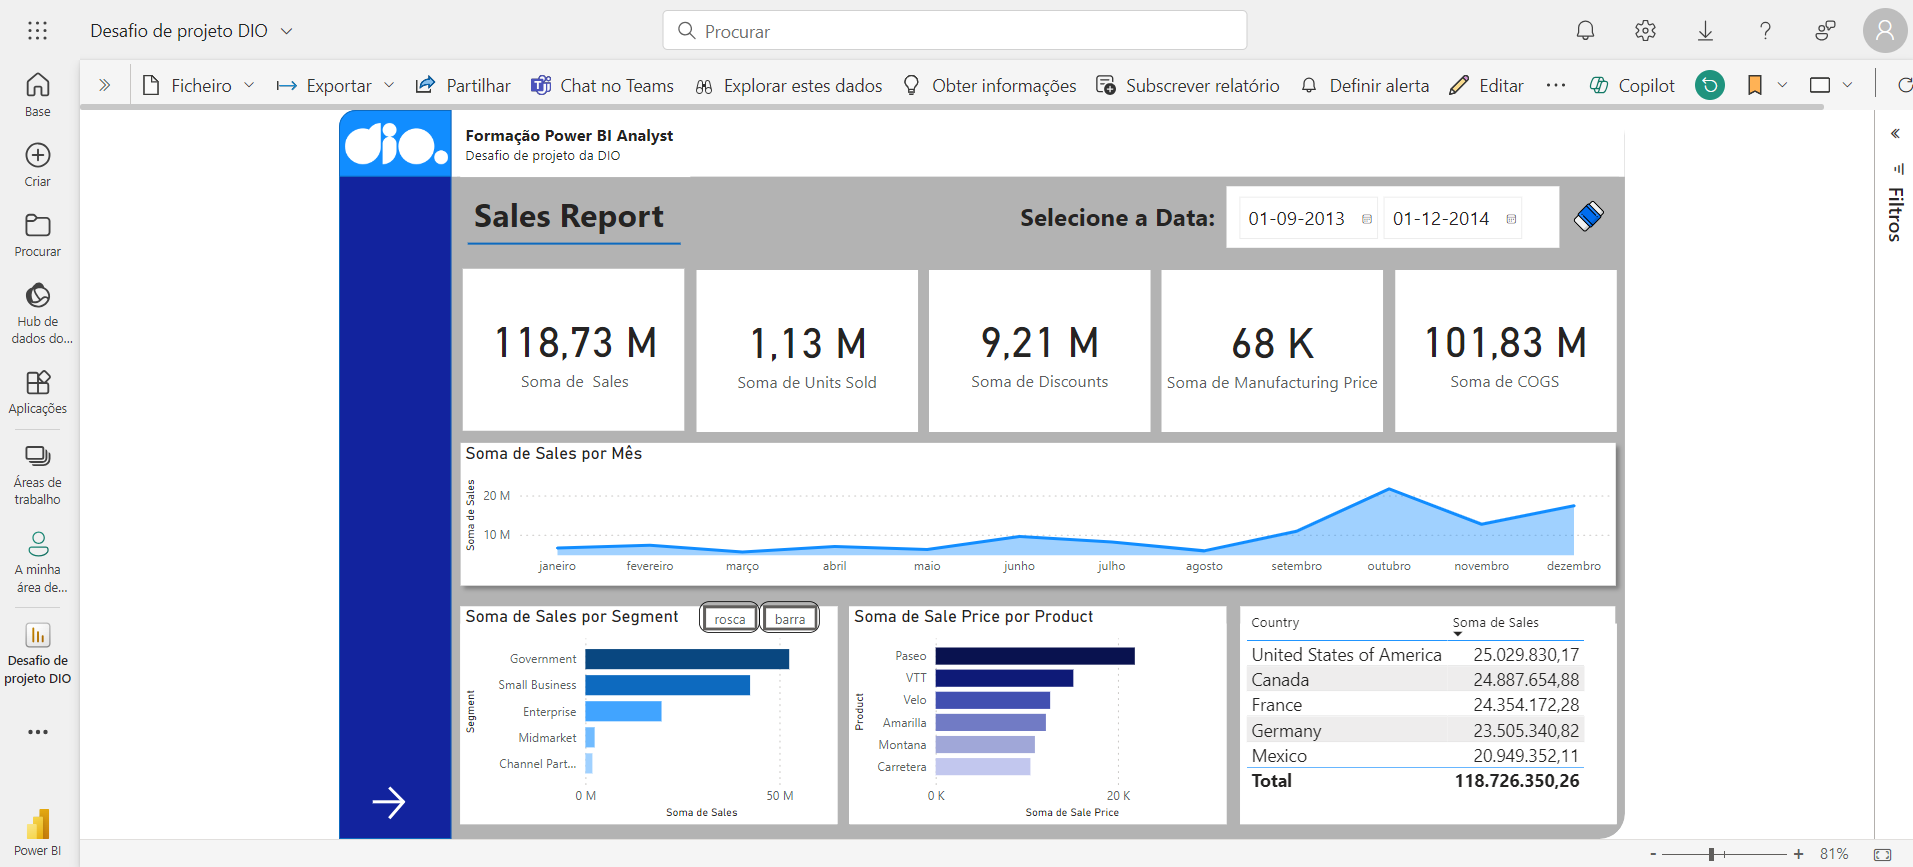

This screenshot's page, from the dashboard's own definition file:
{"tool":"powerbi","page":{"name":"Página 1","canvas":[1280,720],"ordinal":0},"visuals":[{"type":"shape","box":[9.8,0,1270.1,720],"z":0},{"type":"slicer","fields":{"Values":["financials.Date"]},"box":[887.3,75,328.9,60.6],"z":0,"group":"g2"},{"type":"shape","box":[132,156.5,218.8,160.1],"z":0,"group":"g1"},{"type":"shape","box":[9.8,0,111.2,720],"z":1000},{"type":"textbox","box":[678.1,83.7,207.8,51.9],"z":1000,"group":"g2"},{"type":"shape","box":[363.4,157.7,218.8,160.1],"z":1000,"group":"g1"},{"type":"shape","box":[9.8,0,111.2,66],"z":2000},{"type":"actionButton","box":[1216.3,85.1,54.8,40.4],"z":2000,"group":"g2"},{"type":"shape","box":[1052.5,157.7,218.8,160.1],"z":2000,"group":"g1"},{"type":"shape","box":[121,0,1158.8,66],"z":3000},{"type":"shape","box":[822.7,157.7,218.8,160.1],"z":3000,"group":"g1"},{"type":"textbox","box":[129.6,8.6,227.4,57.5],"z":4000},{"type":"shape","box":[592.8,157.7,218.8,160.1],"z":4000,"group":"g1"},{"type":"group","id":"g1","title":"Cartões","box":[132,156.5,1139.3,161.4],"z":5000},{"type":"textbox","box":[138.1,77,210.3,55],"z":6000},{"type":"shape","box":[136.9,119.8,210.3,24.4],"z":7000},{"type":"shape","box":[121,320.3,1158.8,158.9],"z":8000},{"type":"shape","box":[514.6,507.3,371.6,198],"z":9000},{"type":"shape","box":[899.7,507.3,371.6,198],"z":10000},{"type":"shape","box":[129.6,507.3,371.6,198],"z":11000},{"type":"image","box":[1217.5,84.3,55,41.6],"z":12000},{"type":"areaChart","fields":{"Category":["financials.Date.Variation.Hierarquia de datas.Mês"],"Y":["Sum(financials. Sales)"]},"box":[129.6,328.8,1141.7,140.6],"z":13000},{"type":"card","fields":{"Values":["Sum(financials. Sales)"]},"box":[132.7,155.8,219.3,160.1],"z":14000},{"type":"card","fields":{"Values":["Sum(financials.Units Sold)"]},"box":[363.6,157.3,219.3,160.1],"z":15000},{"type":"card","fields":{"Values":["Sum(financials.Discounts)"]},"box":[593,155.8,219.3,160.1],"z":16000},{"type":"card","fields":{"Values":["Sum(financials.COGS)"]},"box":[1051.8,155.8,219.3,160.1],"z":17000},{"type":"card","fields":{"Values":["Sum(financials.Manufacturing Price)"]},"box":[822.4,157.3,219.3,160.1],"z":18000},{"type":"clusteredBarChart","fields":{"Category":["financials.Segment"],"Y":["Sum(financials. Sales)"]},"box":[129.6,490.2,372.8,215.1],"z":19000},{"type":"clusteredBarChart","fields":{"Category":["financials.Product"],"Y":["Sum(financials.Sale Price)"]},"box":[513.4,490.2,372.8,215.1],"z":20000},{"type":"map","fields":{"Category":["financials.Country"],"Size":["Sum(financials. Sales)"]},"box":[900.3,507.9,372.2,197.7],"z":21000},{"type":"group","id":"g2","title":"Filtro por data","box":[678.1,75,593,60.6],"z":22000},{"type":"tableEx","fields":{"Values":["financials.Country","Sum(financials. Sales)"]},"box":[899.7,490.2,370.4,215.1],"z":23000},{"type":"group","id":"g3","title":"botões","box":[130.8,485,372.8,221.6],"z":24000},{"type":"donutChart","fields":{"Category":["financials.Segment"],"Y":["Sum(financials. Sales)"]},"box":[130.8,492.6,372.8,213.9],"z":24000,"group":"g3"},{"type":"actionButton","box":[36.7,662.5,57.5,42.8],"z":25000},{"type":"image","box":[11,0,111.2,66],"z":26000},{"type":"actionButton","box":[425,485,60,31],"z":26000,"group":"g3"},{"type":"actionButton","box":[365,485,60,31],"z":27000,"group":"g3"}]}

Visuals, with their boxes on the page's 1280x720 design canvas (x1, y1, x2, y2). These are canvas units, not pixel positions in the 1913x867 screenshot, which may show the page scaled, cropped or inside an application window:
shape: <bbox>10, 0, 1280, 720</bbox>
slicer - financials.Date: <bbox>887, 75, 1216, 136</bbox>
shape: <bbox>132, 156, 351, 317</bbox>
shape: <bbox>10, 0, 121, 720</bbox>
textbox: <bbox>678, 84, 886, 136</bbox>
shape: <bbox>363, 158, 582, 318</bbox>
shape: <bbox>10, 0, 121, 66</bbox>
actionButton: <bbox>1216, 85, 1271, 126</bbox>
shape: <bbox>1052, 158, 1271, 318</bbox>
shape: <bbox>121, 0, 1280, 66</bbox>
shape: <bbox>823, 158, 1042, 318</bbox>
textbox: <bbox>130, 9, 357, 66</bbox>
shape: <bbox>593, 158, 812, 318</bbox>
"Cartões" group: <bbox>132, 156, 1271, 318</bbox>
textbox: <bbox>138, 77, 348, 132</bbox>
shape: <bbox>137, 120, 347, 144</bbox>
shape: <bbox>121, 320, 1280, 479</bbox>
shape: <bbox>515, 507, 886, 705</bbox>
shape: <bbox>900, 507, 1271, 705</bbox>
shape: <bbox>130, 507, 501, 705</bbox>
image: <bbox>1218, 84, 1272, 126</bbox>
areaChart - financials.Date.Variation.Hierarquia de datas.Mês x Sum(financials. Sales): <bbox>130, 329, 1271, 469</bbox>
card - Sum(financials. Sales): <bbox>133, 156, 352, 316</bbox>
card - Sum(financials.Units Sold): <bbox>364, 157, 583, 317</bbox>
card - Sum(financials.Discounts): <bbox>593, 156, 812, 316</bbox>
card - Sum(financials.COGS): <bbox>1052, 156, 1271, 316</bbox>
card - Sum(financials.Manufacturing Price): <bbox>822, 157, 1042, 317</bbox>
clusteredBarChart - financials.Segment x Sum(financials. Sales): <bbox>130, 490, 502, 705</bbox>
clusteredBarChart - financials.Product x Sum(financials.Sale Price): <bbox>513, 490, 886, 705</bbox>
map - financials.Country x Sum(financials. Sales): <bbox>900, 508, 1272, 706</bbox>
"Filtro por data" group: <bbox>678, 75, 1271, 136</bbox>
tableEx - financials.Country x Sum(financials. Sales): <bbox>900, 490, 1270, 705</bbox>
"botões" group: <bbox>131, 485, 504, 707</bbox>
donutChart - financials.Segment x Sum(financials. Sales): <bbox>131, 493, 504, 706</bbox>
actionButton: <bbox>37, 662, 94, 705</bbox>
image: <bbox>11, 0, 122, 66</bbox>
actionButton: <bbox>425, 485, 485, 516</bbox>
actionButton: <bbox>365, 485, 425, 516</bbox>
